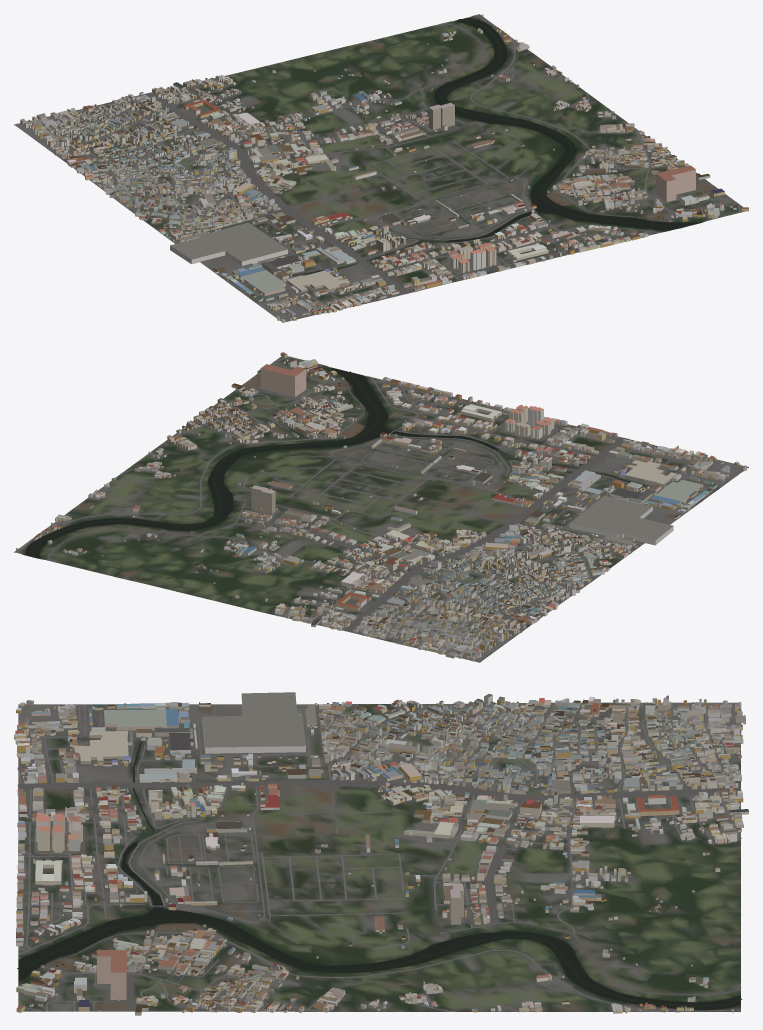
3 views of the same model, one above another, from view 1: azimuth 30°, elevation 25°; view 2: azimuth 150°, elevation 25°; view 3: azimuth 270°, elevation 25° (orthographic). The views are drawn at different scales.
Parts seen in each view (by area): view 1: ground, buildings, roads, water; view 2: ground, buildings, roads, water; view 3: ground, buildings, roads, water.
Part boxes in pixels (x1=…): ground: x1=14, y1=14, x2=745, y2=322; buildings: x1=20, y1=14, x2=748, y2=321; roads: x1=16, y1=14, x2=741, y2=321; water: x1=293, y1=17, x2=700, y2=275; ground: x1=14, y1=356, x2=748, y2=662; buildings: x1=16, y1=352, x2=747, y2=661; roads: x1=17, y1=356, x2=743, y2=662; water: x1=25, y1=367, x2=646, y2=558; ground: x1=18, y1=702, x2=741, y2=1011; buildings: x1=14, y1=692, x2=748, y2=1015; roads: x1=17, y1=702, x2=741, y2=1012; water: x1=17, y1=741, x2=742, y2=1009.
Bounding box in the file's own units: 1446 × 64.47 × 1424.
